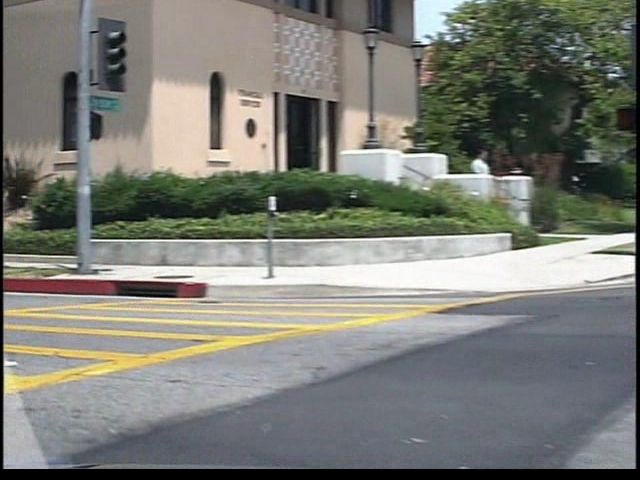person: (453, 143, 477, 221)
